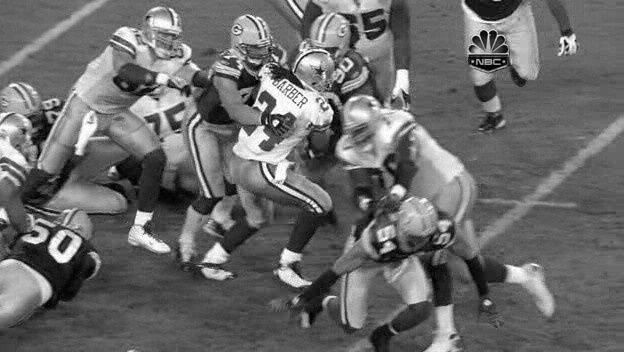person: (300, 52, 335, 96), (299, 52, 334, 96), (301, 52, 336, 96), (300, 51, 335, 95), (300, 53, 335, 97)
target_negative: (35, 204, 311, 350), (563, 13, 622, 90), (37, 194, 115, 235), (300, 290, 413, 303), (252, 3, 299, 28), (370, 308, 428, 314)
